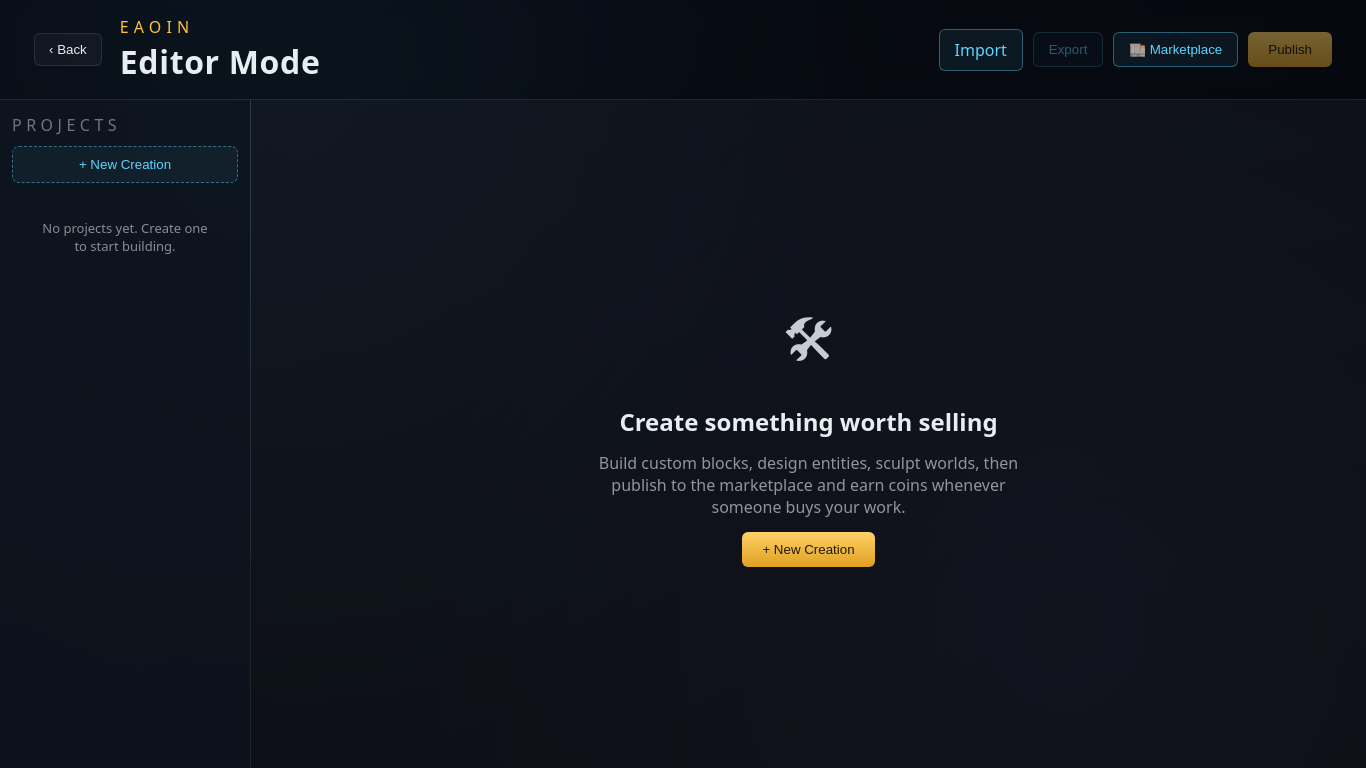
Scenario: EditorScreen › creates a new project and shows the toolbar
The image size is (1366, 768).
Click the 1st button "+ New Creation" at [125, 164], box [12,146,238,183]
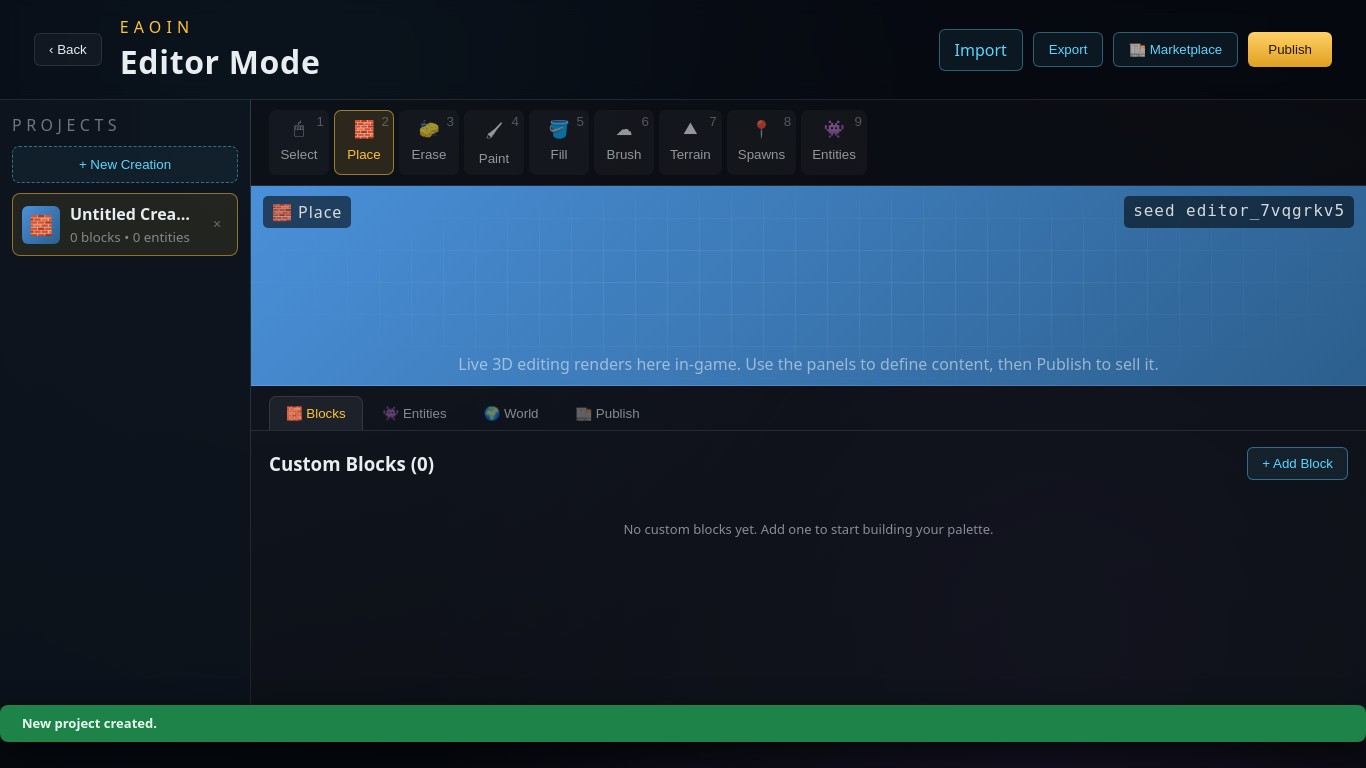
Check: the element with class "ed-toolbar" is shown, box [251,100,1365,186]
